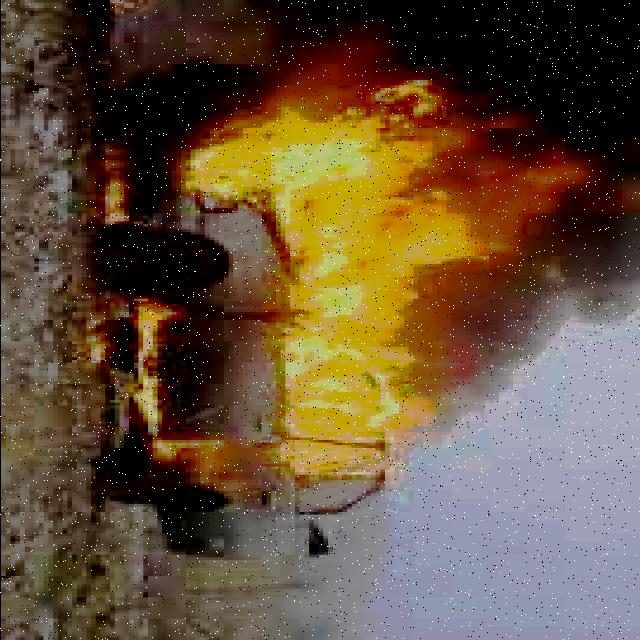api: (177, 92, 561, 468)
